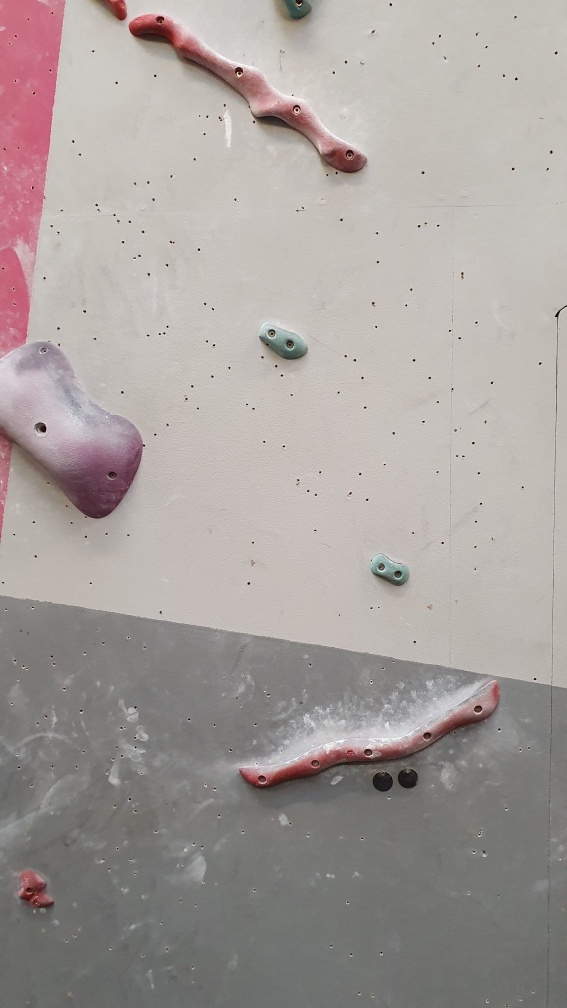Hand Start: (371, 769, 398, 794), (396, 767, 422, 790)
Pinch: (126, 13, 371, 178), (235, 674, 503, 792), (252, 320, 316, 364), (367, 549, 417, 593)
